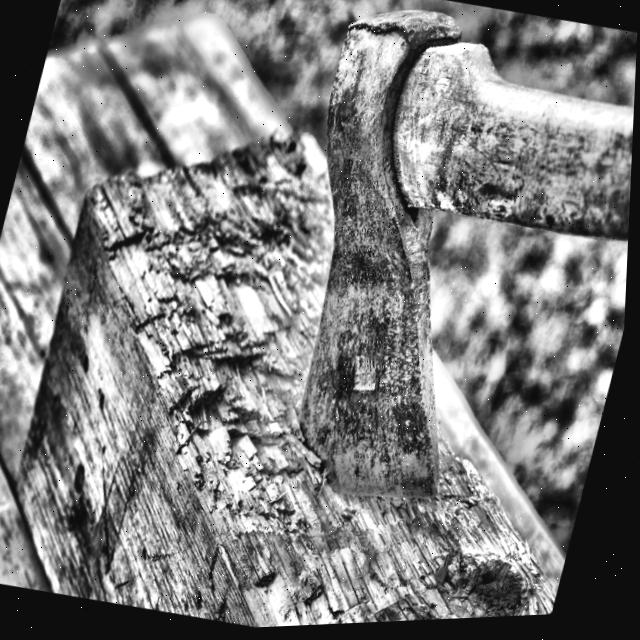kapak: (291, 8, 635, 511)
